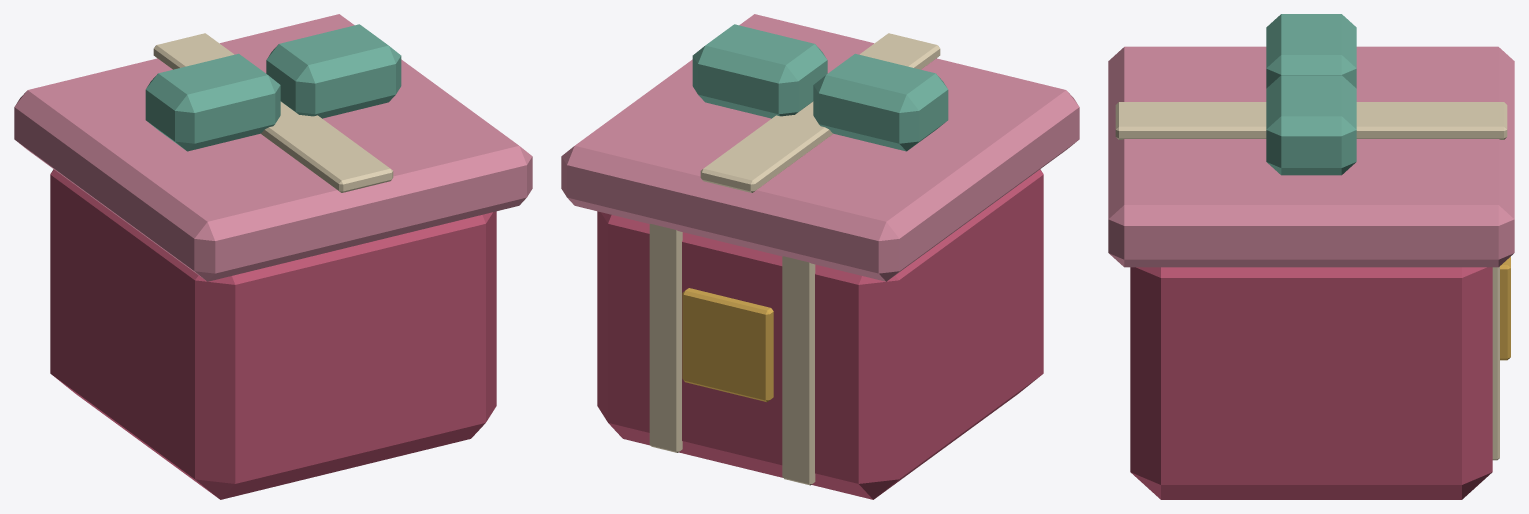
File: surprise.glb
3 renders of one model, left to right at view 1: azimuth 30°, elevation 25°; view 2: azimuth 150°, elevation 25°; view 3: azimuth 270°, elevation 25°, orthographic. The views are drawn at different scales.
Parts seen in each view (by area): view 1: Box, Lid; view 2: Box, Lid; view 3: Lid, Box.
Boxes of the visible parts, x1,y1,x2,y2 form: Box: (50, 169, 496, 499); Lid: (14, 14, 532, 281); Box: (597, 169, 1043, 499); Lid: (561, 14, 1079, 281); Lid: (1108, 14, 1514, 267); Box: (1130, 256, 1510, 499).
Bounding box in the file's own units: 1.12 × 1.13 × 1.12.
